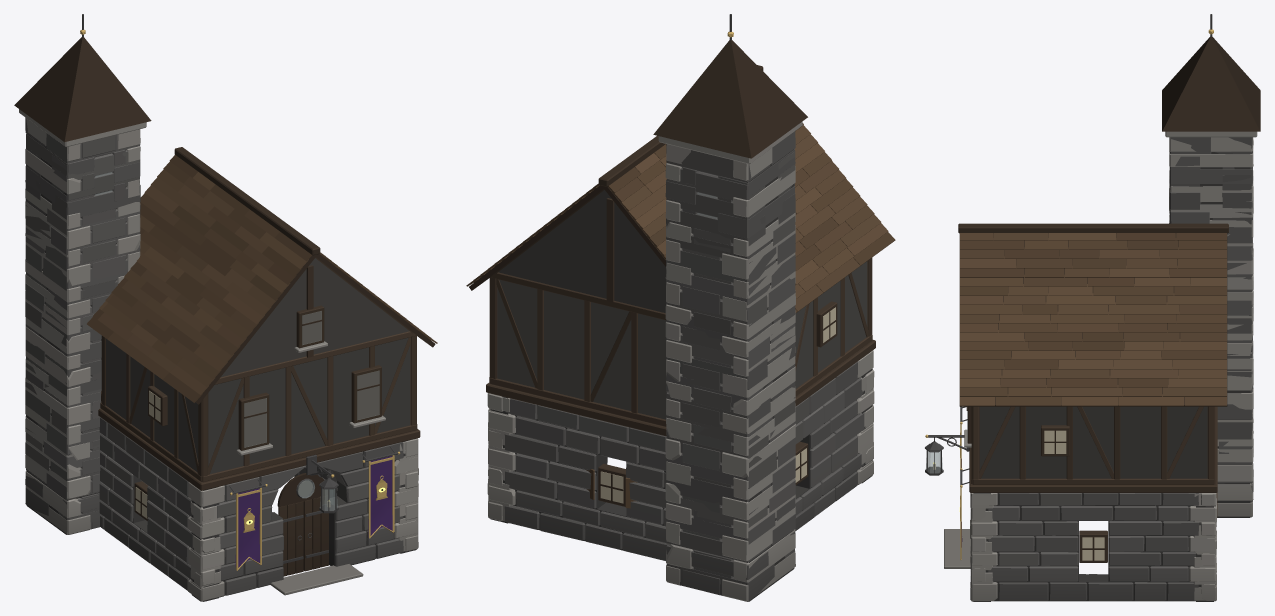
Rendered from guild_hall_lantern.glb.
3 views of the same model, side by side, from view 1: azimuth 30°, elevation 25°; view 2: azimuth 150°, elevation 25°; view 3: azimuth 270°, elevation 25° (orthographic). The views are drawn at different scales.
Visible parts, largest first — view 1: guild_hall_lantern; view 2: guild_hall_lantern; view 3: guild_hall_lantern.
Part boxes in pixels (x1,y1,x2,y2): guild_hall_lantern: (14, 14, 437, 601); guild_hall_lantern: (466, 14, 895, 601); guild_hall_lantern: (925, 14, 1260, 601).
Size of what is drawn, in the model's own units: 9.57 by 16.85 by 10.56.
